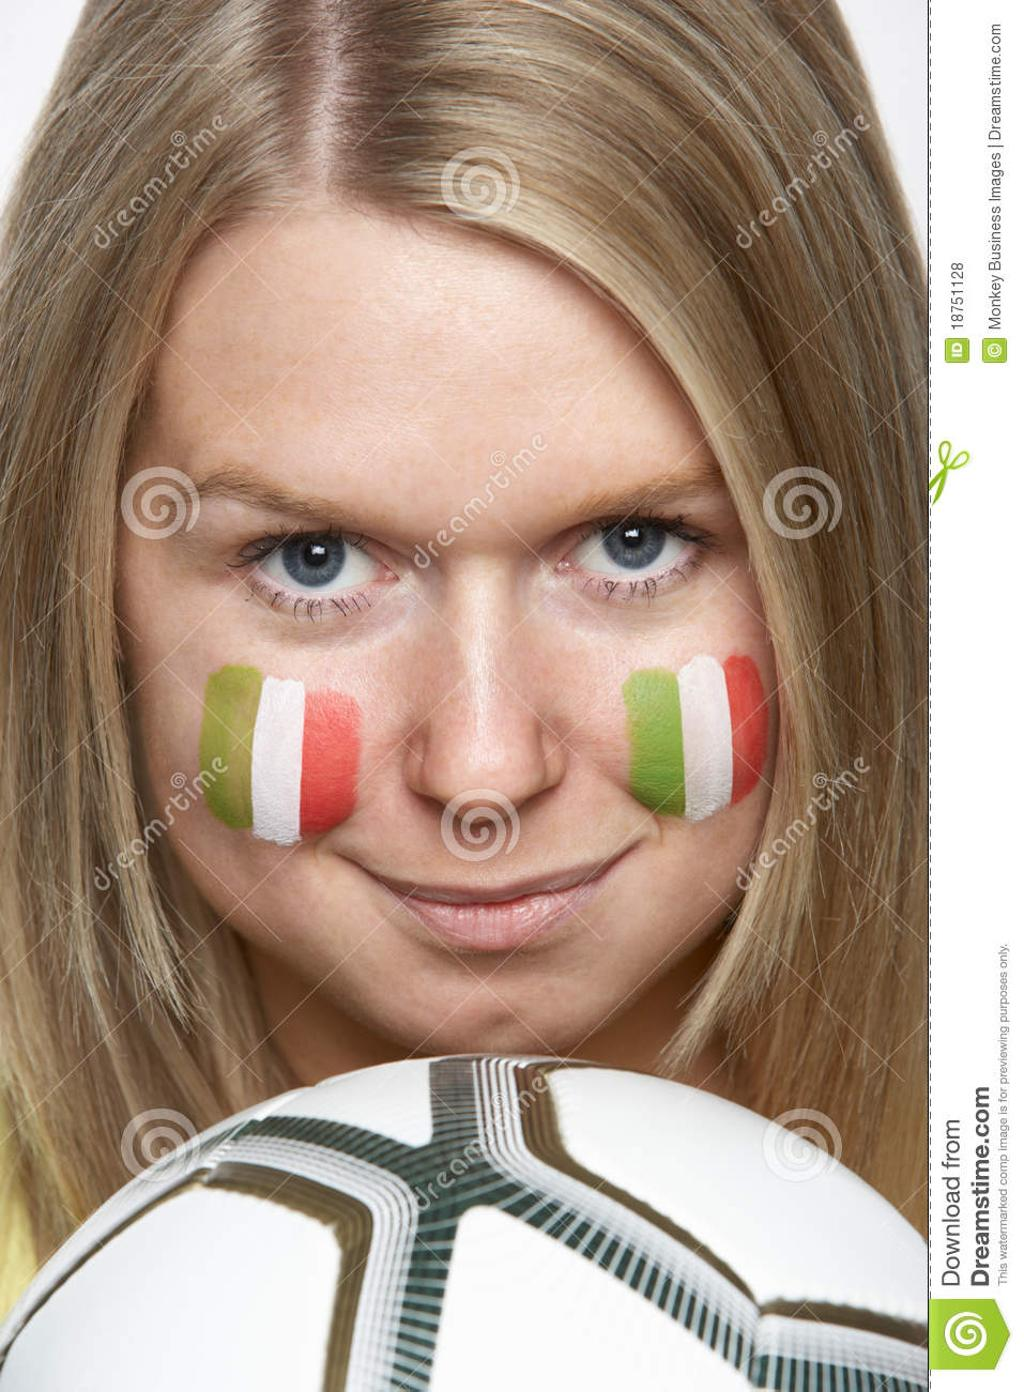face: (117, 236, 782, 1062)
